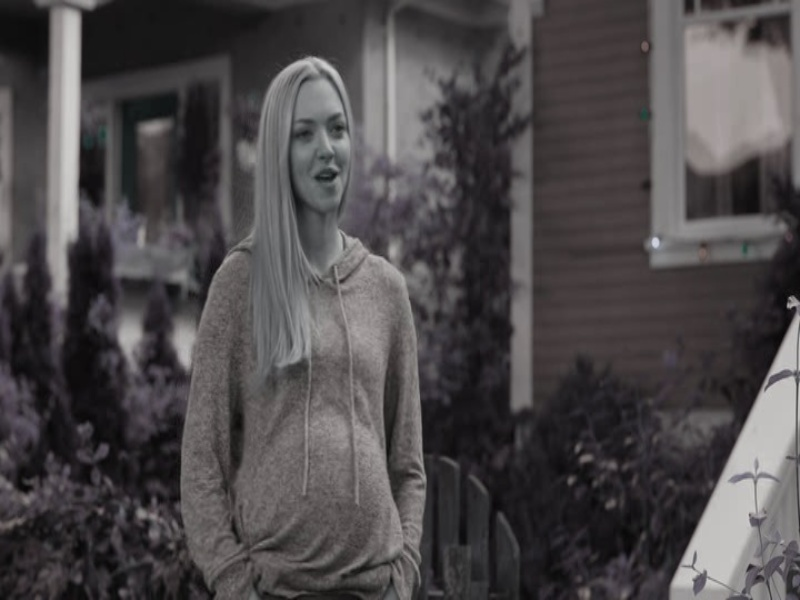TsisyArotava: (261, 62, 365, 219)
